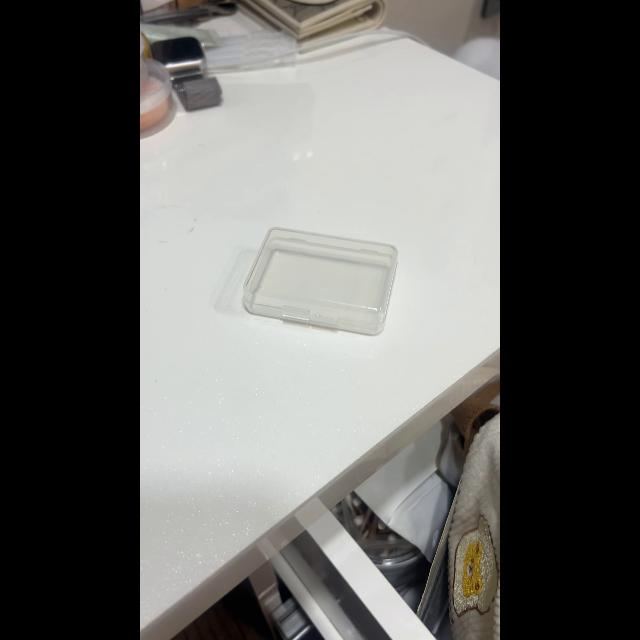clean: (242, 228, 394, 328)
